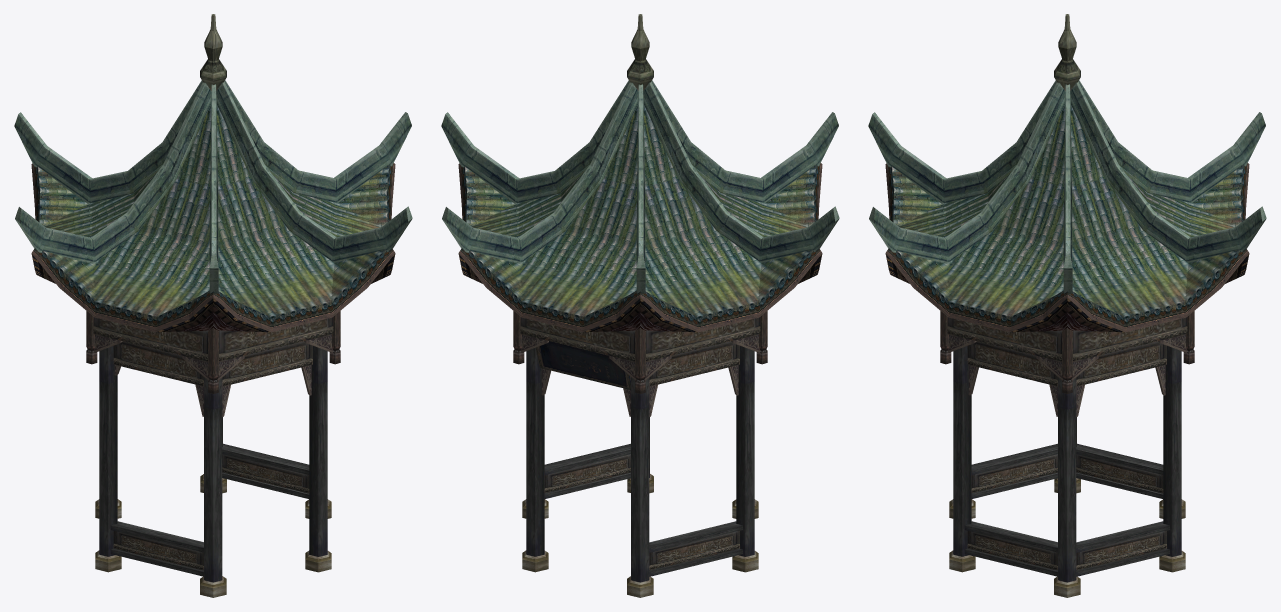
Rendered from tingzi.FBX.
3 renders of one model, left to right at view 1: azimuth 30°, elevation 25°; view 2: azimuth 150°, elevation 25°; view 3: azimuth 270°, elevation 25°, orthographic.
Parts seen in each view (by area): view 1: bf6508.obj, bbfec8.obj; view 2: bf6508.obj, bbfec8.obj; view 3: bf6508.obj, bbfec8.obj.
Boxes of the visible parts, box(x1,y1,x2,y2) form: bf6508.obj: box(14, 80, 412, 332); bbfec8.obj: box(86, 14, 340, 597); bf6508.obj: box(441, 80, 839, 332); bbfec8.obj: box(513, 14, 767, 597); bf6508.obj: box(868, 80, 1266, 332); bbfec8.obj: box(940, 14, 1194, 597).
Size of the model in its own units: 1065 by 1360 by 935.
